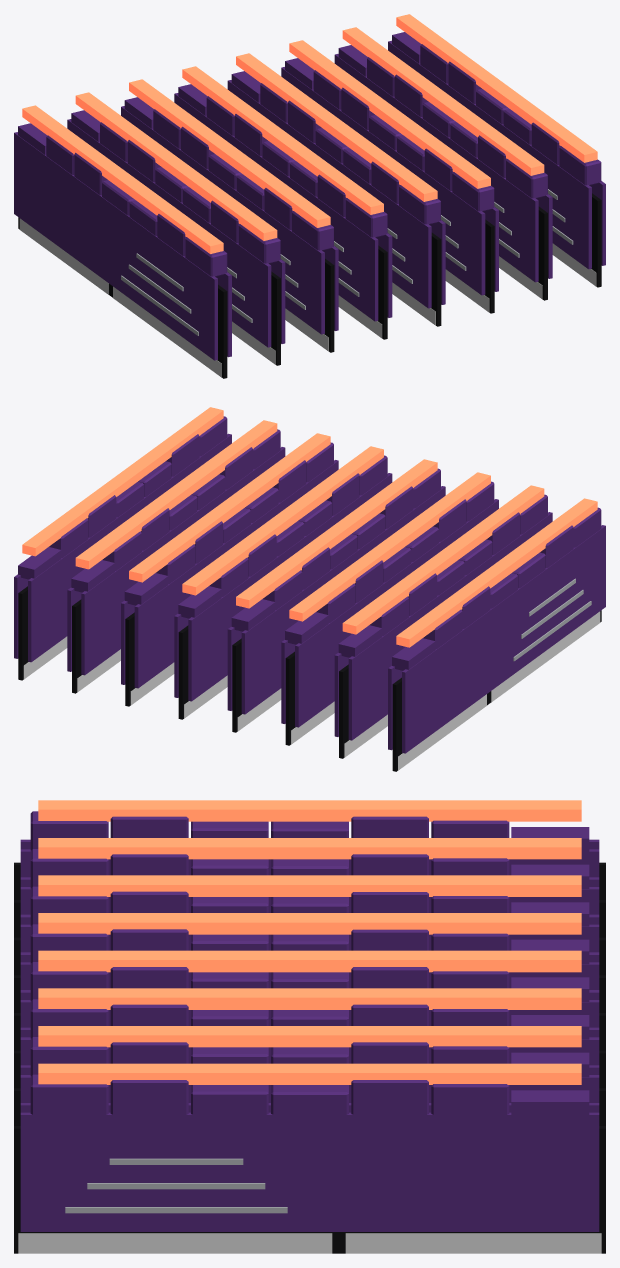
The model's file is hw_ram_ddr5_512gb.glb.
3 renders of one model, top to bottom at view 1: azimuth 30°, elevation 25°; view 2: azimuth 150°, elevation 25°; view 3: azimuth 270°, elevation 25°, orthographic. The views are drawn at different scales.
Parts seen in each view (by area): view 1: Stick_1, Stick_4, Stick_2, Stick_5, Stick_7, Stick_3, Body, Stick_6; view 2: Stick_1, Stick_4, Stick_5, Stick_2, Body, Stick_3, Stick_7, Stick_6; view 3: Body, Stick_5, Stick_7, Stick_4, Stick_2, Stick_6, Stick_3, Stick_1.
Boxes of the visible parts, x1,y1,x2,y2 form: Stick_1: [14, 105, 231, 378]; Stick_4: [174, 66, 392, 339]; Stick_2: [67, 92, 285, 365]; Stick_5: [227, 53, 445, 326]; Stick_7: [334, 27, 552, 300]; Stick_3: [121, 79, 338, 352]; Body: [388, 14, 605, 287]; Stick_6: [281, 40, 498, 313]; Stick_1: [388, 498, 605, 771]; Stick_4: [227, 459, 445, 732]; Stick_5: [174, 446, 392, 719]; Stick_2: [334, 485, 552, 758]; Body: [14, 407, 231, 680]; Stick_3: [281, 472, 498, 745]; Stick_7: [67, 420, 285, 693]; Stick_6: [121, 433, 338, 706]; Body: [14, 1063, 605, 1253]; Stick_5: [14, 950, 605, 1050]; Stick_7: [14, 1026, 605, 1125]; Stick_4: [14, 913, 605, 1012]; Stick_2: [14, 838, 605, 937]; Stick_6: [14, 988, 605, 1088]; Stick_3: [14, 875, 605, 975]; Stick_1: [14, 800, 605, 899].
Size of the model in its own units: 0.1472 by 0.0456 by 0.133.
